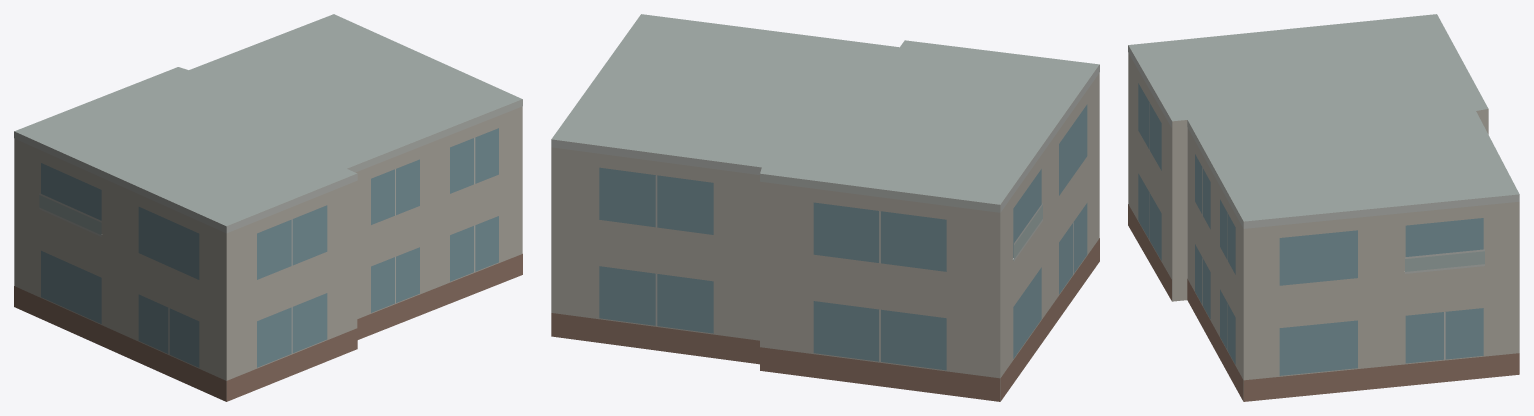
The model's file is survey-upis-32675677.glb.
3 renders of one model, left to right at view 1: azimuth 30°, elevation 25°; view 2: azimuth 150°, elevation 25°; view 3: azimuth 270°, elevation 25°, orthographic. The views are drawn at different scales.
Visible parts, largest first — view 1: survey-upis-32675677.tmp; view 2: survey-upis-32675677.tmp; view 3: survey-upis-32675677.tmp.
Boxes of the visible parts, x1,y1,x2,y2 form: survey-upis-32675677.tmp: (14, 14, 522, 401); survey-upis-32675677.tmp: (551, 14, 1099, 401); survey-upis-32675677.tmp: (1128, 14, 1519, 401).
Size of the model in its own units: 13.84 by 5.6 by 11.03.
